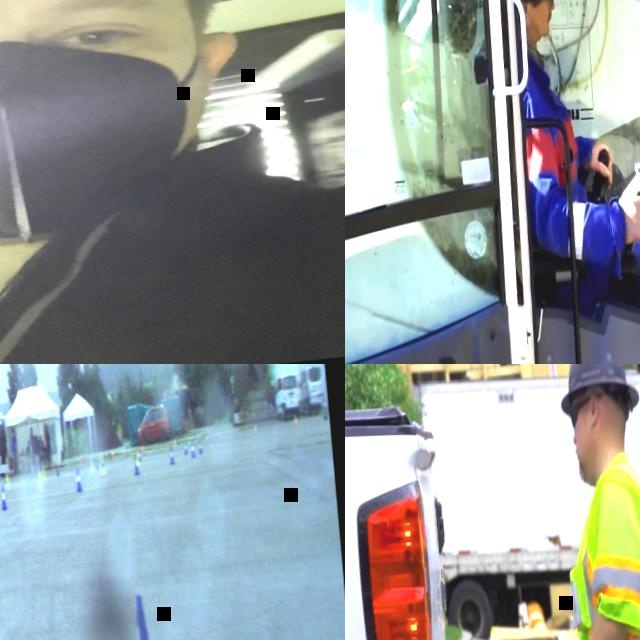Hardhat: (555, 364, 640, 419)
Mask: (0, 39, 222, 259)
NO-Mask: (572, 419, 603, 487), (528, 12, 552, 41)
NO-Safety Vest: (0, 163, 345, 364)
Person: (0, 0, 345, 364), (503, 0, 640, 364), (529, 364, 640, 640)
Safety Cone: (125, 592, 165, 640), (527, 602, 546, 630), (73, 468, 83, 493), (131, 455, 141, 477), (0, 484, 8, 510), (168, 443, 176, 466), (100, 454, 107, 475), (189, 439, 196, 459), (197, 438, 203, 457), (37, 472, 43, 490), (182, 441, 188, 455), (293, 415, 299, 428), (252, 422, 258, 435), (215, 429, 221, 442), (94, 456, 99, 470), (5, 473, 10, 487), (55, 464, 60, 477), (173, 437, 178, 449), (136, 451, 140, 466), (140, 443, 145, 454), (138, 450, 142, 463), (90, 458, 94, 471), (42, 468, 46, 481), (110, 450, 115, 460)
Safety Vest: (551, 450, 640, 640), (519, 68, 592, 269)
machinery: (345, 0, 640, 364)
vehicle: (345, 383, 556, 640)
